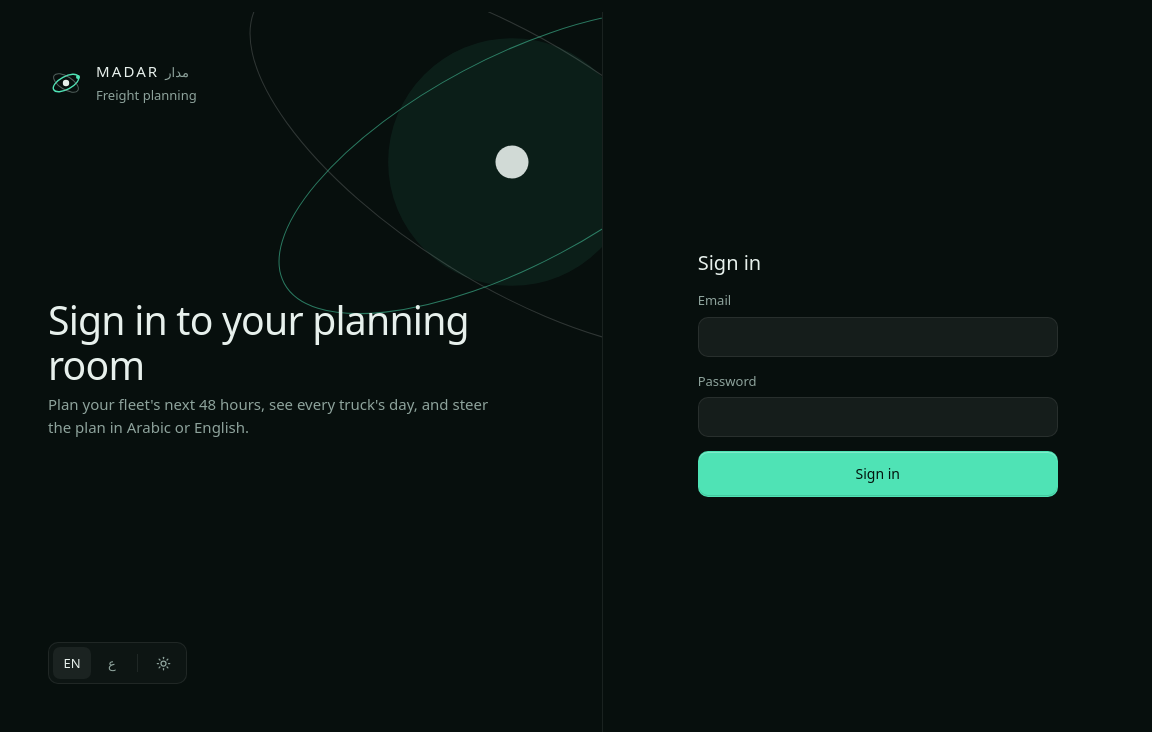
Test: sign-in page › says the email or password is wrong
This screenshot has width=1152, height=732.
Type "a@b.test" into the field labelled "Email" at point(878, 336), box 698,316 -> 1058,356
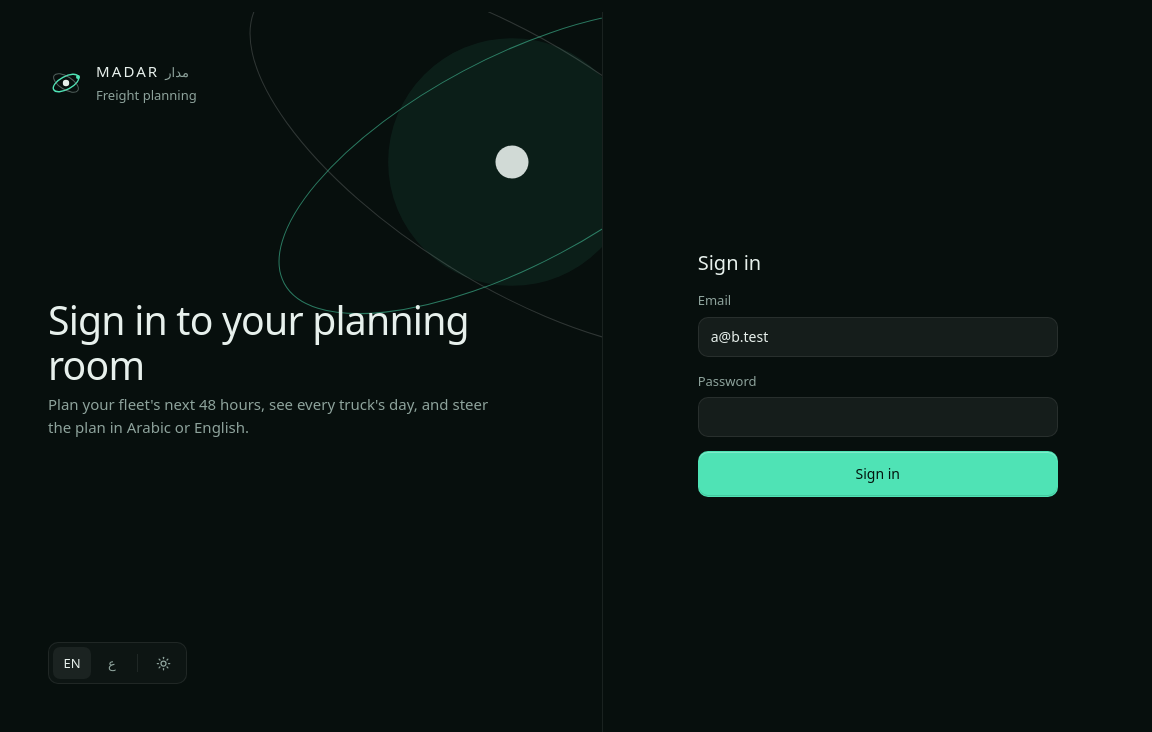
Type "secret-pass" into the password field labelled "Password" at point(878, 417), box 698,397 -> 1058,437
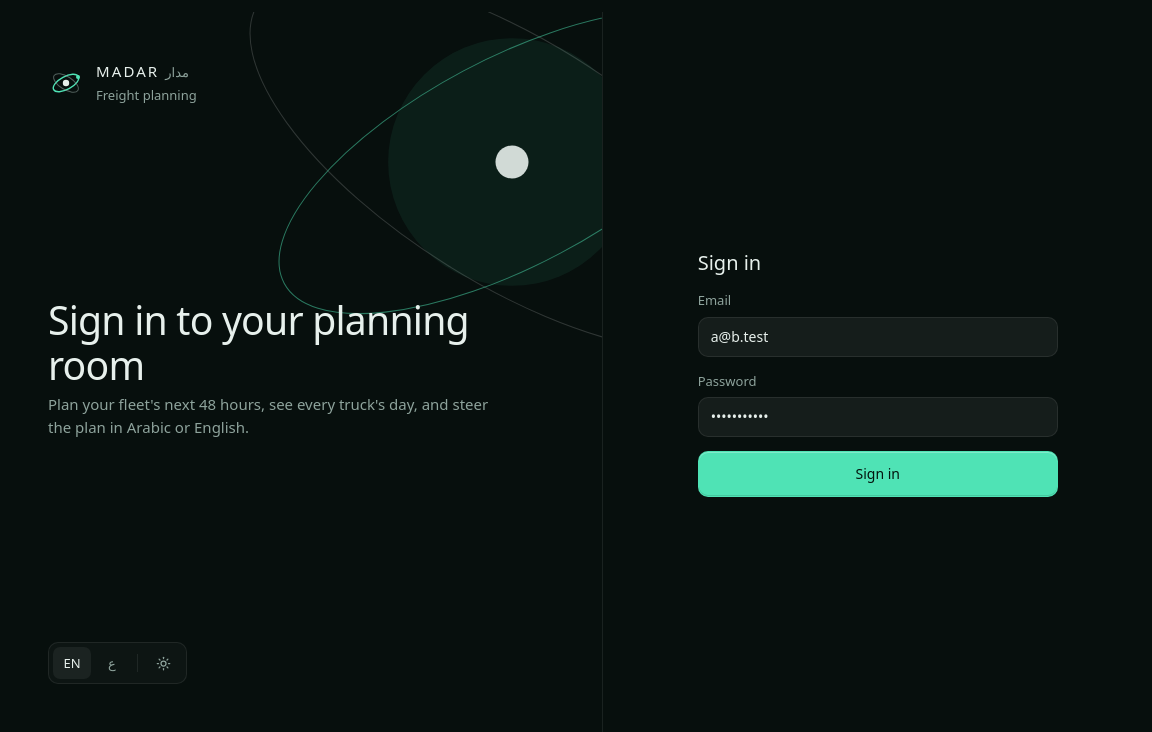
Click the button "Sign in" at point(878, 474), box 698,451 -> 1058,497
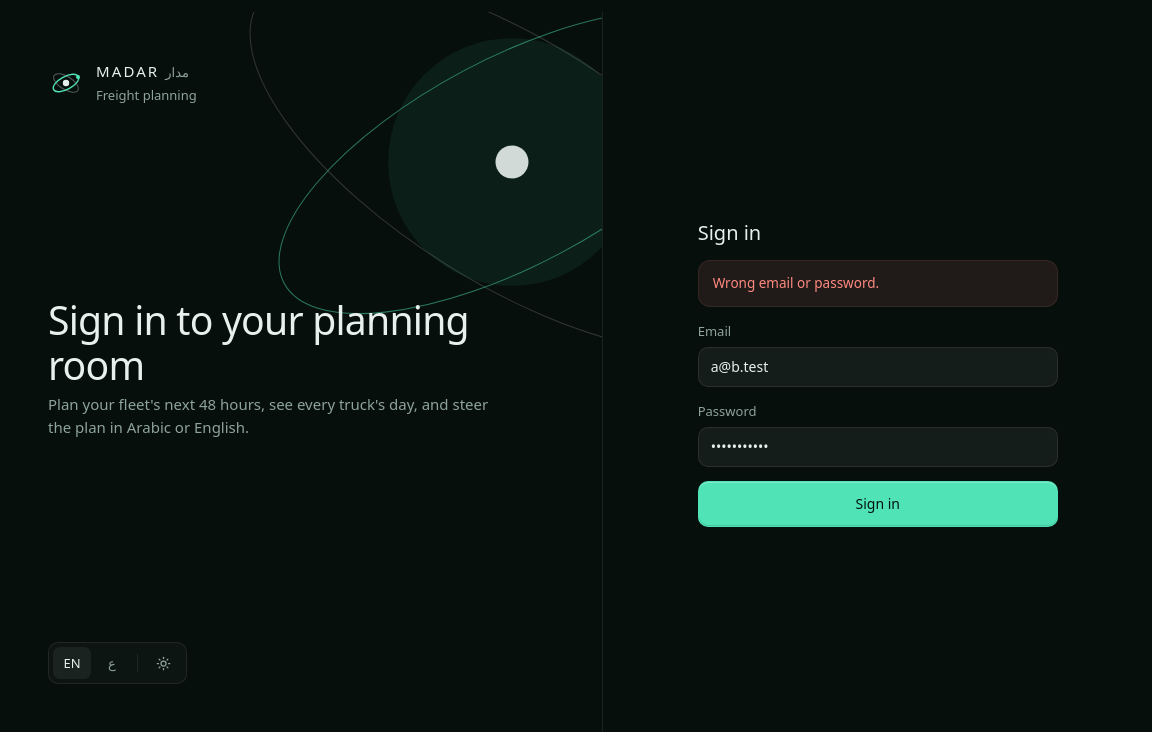
Check: the text "Wrong email or password." is shown, box 698,260 -> 1058,307
